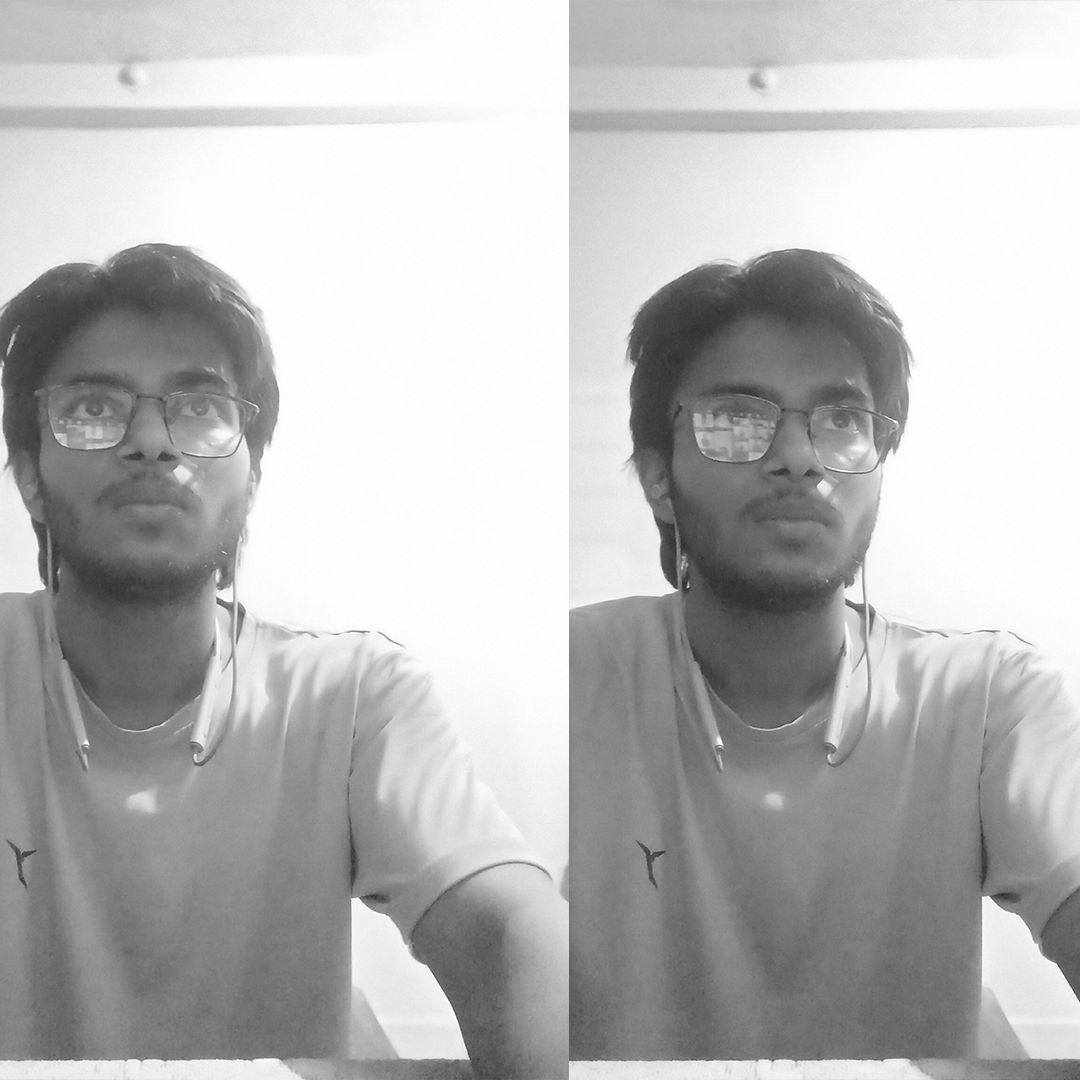Focused: (0, 207, 330, 673), (602, 225, 929, 673)
